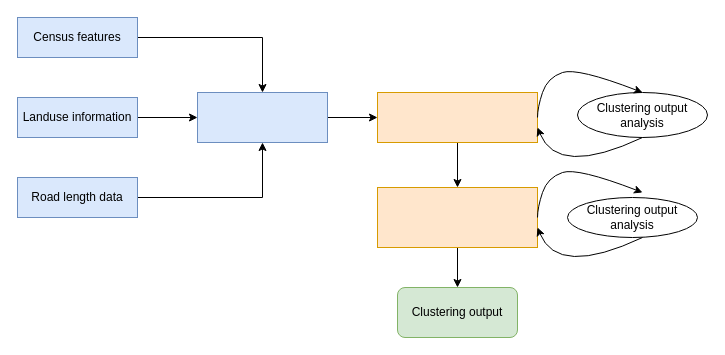
This 725x355 diagram has some shape labels left out. Each missing label, with the centre of its shape:
1st step clustering: rural-middle-urban: pixel 457 117
2nd step clustering: subclassification of rural and middle: pixel 457 217
Merge data at the hex level: pixel 262 117
